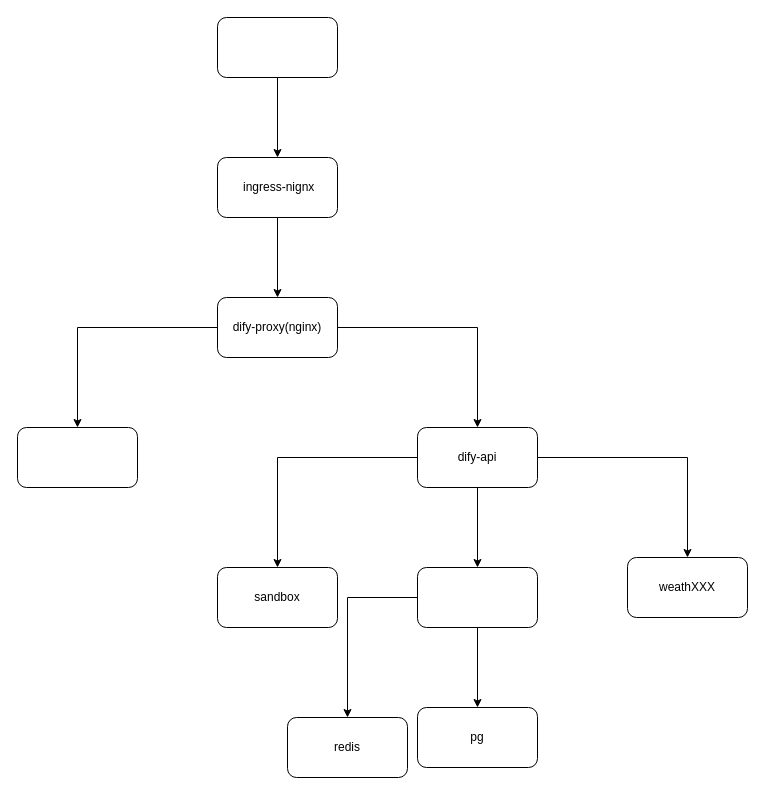
This 765x795 diagram has some shape labels left out. The shapes that lost their labels are listed below. From the top down, each one's box as (x1, y1, x2, y2) in pixels, then its label:
(216, 16, 338, 78): elb
(16, 426, 138, 488): dify-web
(416, 566, 538, 628): dify-worker
